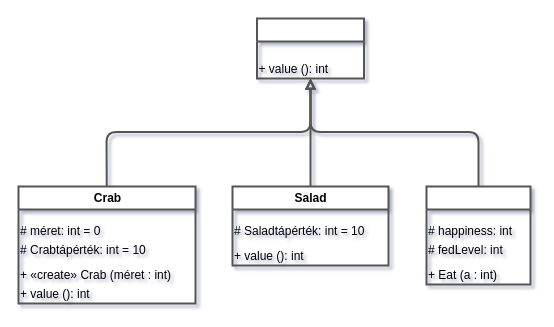
This 554x327 diagram has some shape labels left out. The box of each missing label's shape, as (x1, y1, x2, y2) in pixels:
Food: (256, 17, 364, 79)
Turtle: (425, 185, 531, 285)
